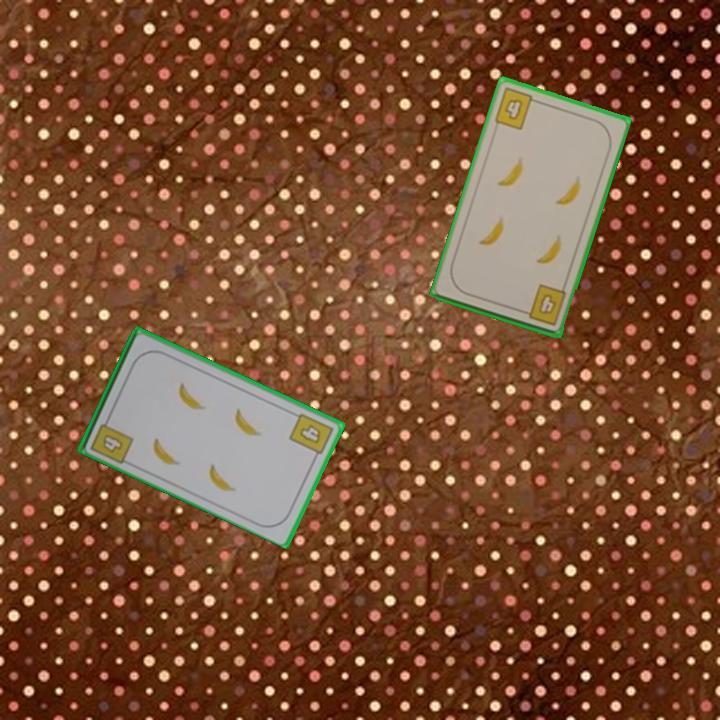4b: (285, 409, 336, 462), (87, 412, 136, 466), (490, 84, 542, 133), (518, 281, 569, 328)
